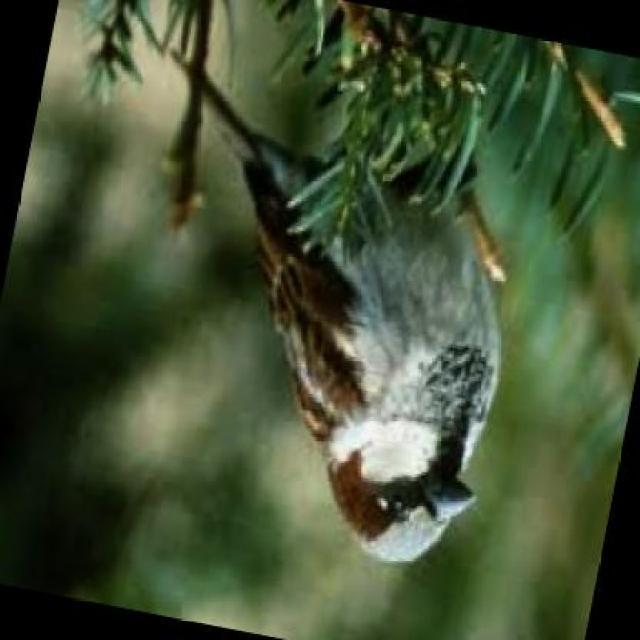Bird: (249, 115, 476, 569)
